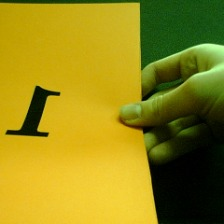orange1: (1, 78, 64, 141)
